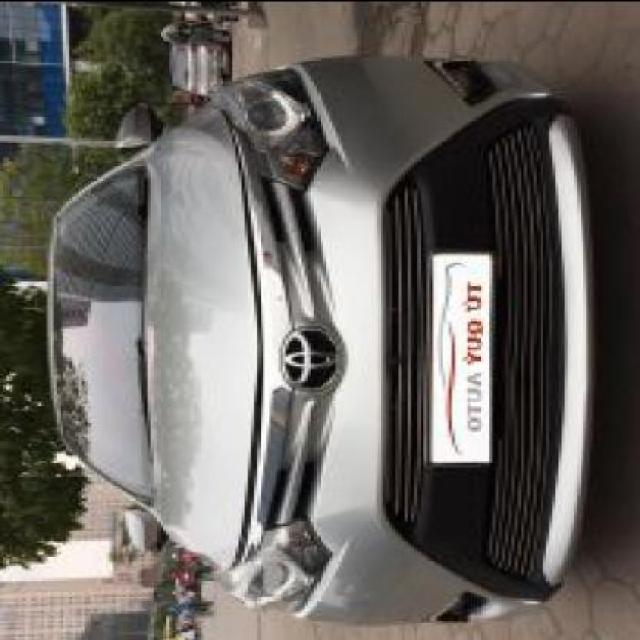ToyotaVios: (44, 48, 596, 628)
